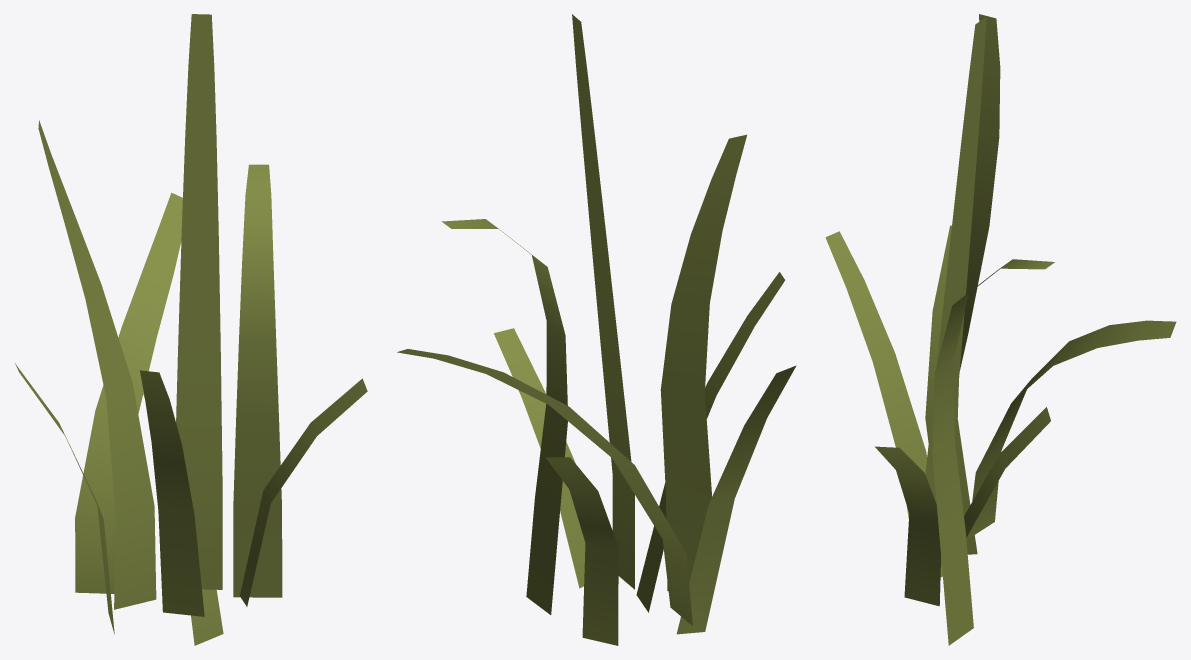
The model's file is grass_clump01.fbx.
3 views of the same model, side by side, from view 1: azimuth 30°, elevation 25°; view 2: azimuth 150°, elevation 25°; view 3: azimuth 270°, elevation 25° (orthographic). The views are drawn at different scales.
Parts seen in each view (by area): view 1: grassClump02; view 2: grassClump02; view 3: grassClump02.
Part boxes in pixels (x1=…): grassClump02: x1=15, y1=14, x2=367, y2=645; grassClump02: x1=397, y1=14, x2=796, y2=645; grassClump02: x1=825, y1=14, x2=1176, y2=645.
Bounding box in the file's own units: 4.3 × 7.92 × 4.06.
